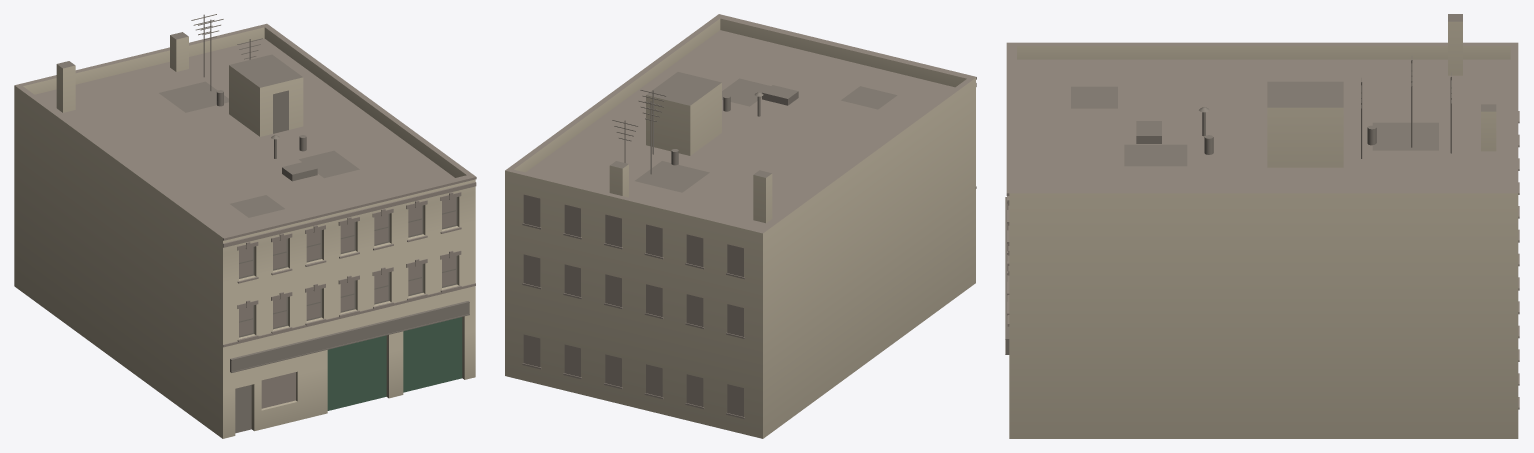
Rendered from biz_garage_bowery.glb.
3 views of the same model, side by side, from view 1: azimuth 30°, elevation 25°; view 2: azimuth 150°, elevation 25°; view 3: azimuth 270°, elevation 25° (orthographic). The views are drawn at different scales.
Visible parts, largest first — view 1: biz_garage_bowery; view 2: biz_garage_bowery; view 3: biz_garage_bowery.
Part boxes in pixels (left/top/right/bottom): biz_garage_bowery: left=14, top=14, right=476, bottom=438; biz_garage_bowery: left=505, top=14, right=976, bottom=438; biz_garage_bowery: left=1005, top=14, right=1519, bottom=438.
Bounding box in the file's own units: 14 × 13.83 × 20.2.
